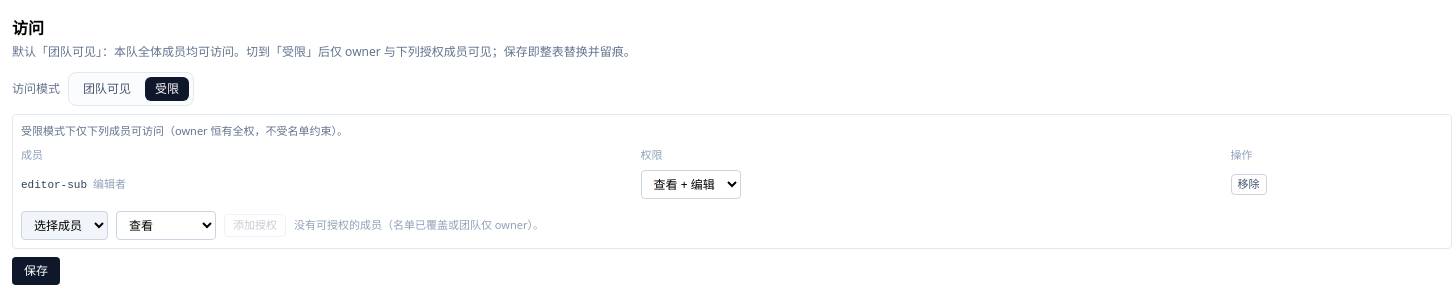
DatasetAccessSection（owner-only 访问面板） › 移除授权行后保存：载荷名单同步收缩
The width and height of the screenshot is (1452, 302).
Click the button with test id "dataset-access-grant-remove". click: (1249, 185)
box: [1231,174,1267,195]
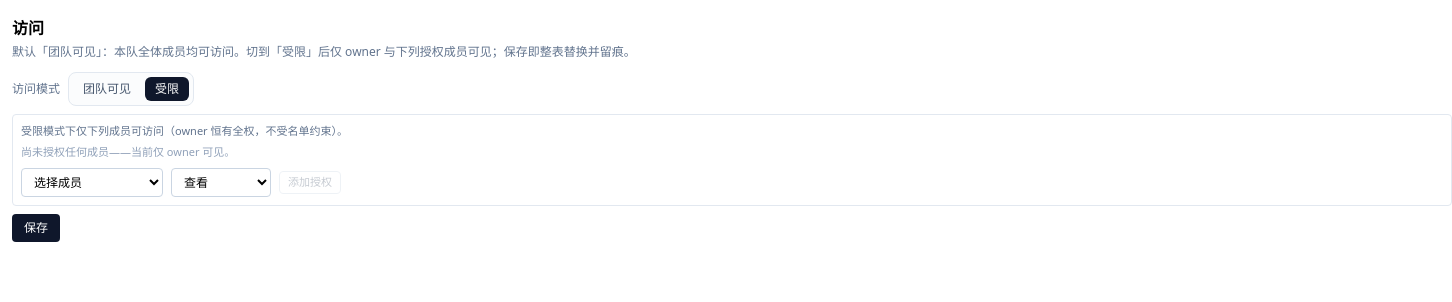
Check: the row with test id "dataset-access-grant-row" is gone
Click the button with test id "dataset-access-save". click: (36, 228)
box: [12,214,60,242]
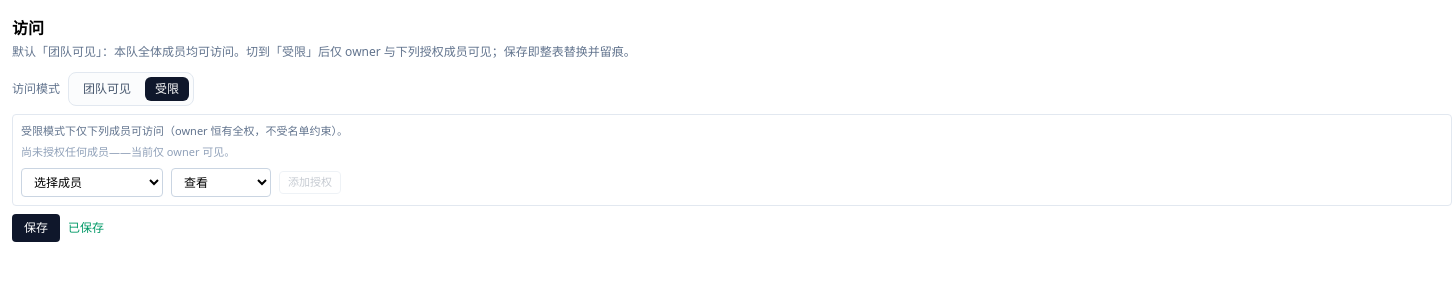
Check: the text "已保存" is shown, box [68,220,104,236]
